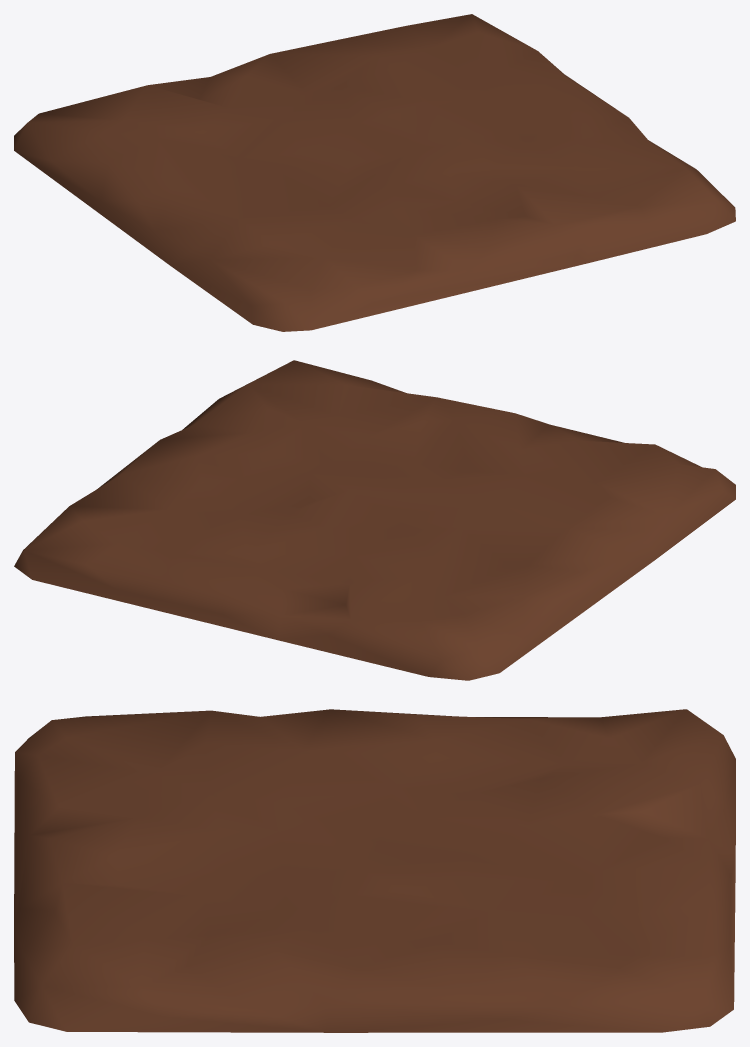
File: Field.001.fbx
3 views of the same model, one above another, from view 1: azimuth 30°, elevation 25°; view 2: azimuth 150°, elevation 25°; view 3: azimuth 270°, elevation 25° (orthographic). The views are drawn at different scales.
Visible parts, largest first — view 1: Plane.027; view 2: Plane.027; view 3: Plane.027.
Boxes of the visible parts, <box> form: Plane.027: <box>14,14,735,331</box>; Plane.027: <box>14,360,735,680</box>; Plane.027: <box>14,709,735,1032</box>.
Size of the model in its own units: 210 by 11.89 by 210.
